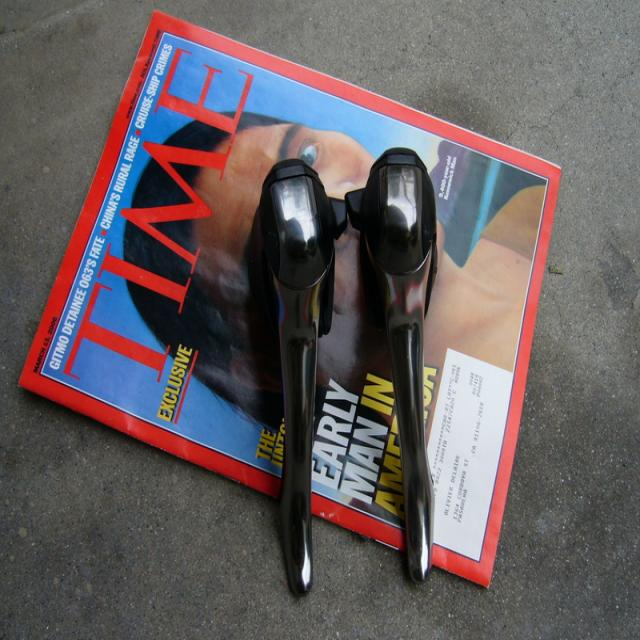book: (21, 13, 559, 584)
